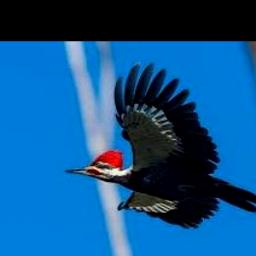Woodpecker: (66, 61, 256, 228)
